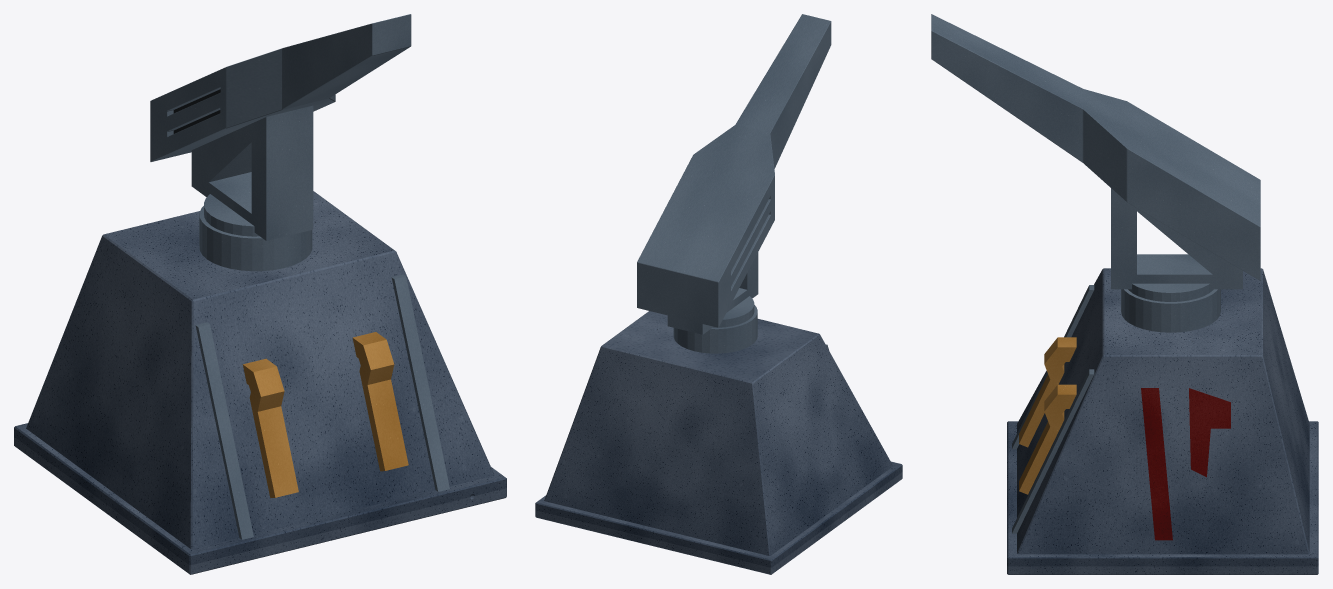
3 renders of one model, left to right at view 1: azimuth 30°, elevation 25°; view 2: azimuth 150°, elevation 25°; view 3: azimuth 270°, elevation 25°, orthographic. The views are drawn at different scales.
Parts seen in each view (by area): view 1: Laser Boost flared fixed cast base, Laser Boost single inclined tapered blade, Laser Boost grounded low foot, Laser Boost pierced rotating cradle, Laser Boost continuous hooked front brass 0, Laser Boost continuous hooked front brass 1, Laser Boost fixed supported bearing, Laser Boost sloping structural front rib 0, Laser Boost sloping structural front rib 1, Laser Boost moving bearing; view 2: Laser Boost flared fixed cast base, Laser Boost single inclined tapered blade, Laser Boost grounded low foot, Laser Boost fixed supported bearing, Laser Boost pierced rotating cradle, Laser Boost moving bearing; view 3: Laser Boost flared fixed cast base, Laser Boost single inclined tapered blade, Laser Boost grounded low foot, Laser Boost pierced rotating cradle, Laser Boost fixed supported bearing, Laser Boost long narrow red side stripe, Laser Boost smaller angular red side flag, Laser Boost continuous hooked front brass 1, Laser Boost continuous hooked front brass 0, Laser Boost sloping structural front rib 1, Laser Boost moving bearing, Laser Boost sloping structural front rib 0.
Part boxes in pixels (left/top/right/bottom): Laser Boost flared fixed cast base: left=26, top=191, right=494, bottom=549; Laser Boost single inclined tapered blade: left=150, top=14, right=411, bottom=161; Laser Boost grounded low foot: left=14, top=423, right=506, bottom=574; Laser Boost pierced rotating cradle: left=191, top=105, right=313, bottom=240; Laser Boost continuous hooked front brass 0: left=242, top=358, right=298, bottom=498; Laser Boost continuous hooked front brass 1: left=352, top=332, right=408, bottom=471; Laser Boost fixed supported bearing: left=199, top=206, right=312, bottom=271; Laser Boost sloping structural front rib 0: left=195, top=322, right=253, bottom=539; Laser Boost sloping structural front rib 1: left=391, top=274, right=449, bottom=491; Laser Boost moving bearing: left=204, top=194, right=259, bottom=236; Laser Boost flared fixed cast base: left=544, top=311, right=892, bottom=555; Laser Boost single inclined tapered blade: left=637, top=14, right=831, bottom=327; Laser Boost grounded low foot: left=535, top=461, right=902, bottom=574; Laser Boost fixed supported bearing: left=673, top=305, right=757, bottom=353; Laser Boost pierced rotating cradle: left=667, top=252, right=758, bottom=334; Laser Boost moving bearing: left=713, top=296, right=754, bottom=327; Laser Boost flared fixed cast base: left=1017, top=268, right=1309, bottom=554; Laser Boost single inclined tapered blade: left=931, top=14, right=1260, bottom=280; Laser Boost grounded low foot: left=1007, top=421, right=1318, bottom=574; Laser Boost pierced rotating cradle: left=1111, top=188, right=1242, bottom=289; Laser Boost fixed supported bearing: left=1121, top=289, right=1220, bottom=332; Laser Boost long narrow red side stripe: left=1141, top=388, right=1172, bottom=540; Laser Boost smaller angular red side flag: left=1189, top=388, right=1230, bottom=477; Laser Boost continuous hooked front brass 1: left=1019, top=384, right=1076, bottom=494; Laser Boost continuous hooked front brass 0: left=1019, top=337, right=1076, bottom=447; Laser Boost sloping structural front rib 1: left=1012, top=369, right=1094, bottom=533; Laser Boost moving bearing: left=1128, top=283, right=1213, bottom=301; Laser Boost sloping structural front rib 0: left=1012, top=285, right=1094, bottom=449.
Bounding box in the file's own units: 1.62 × 2.68 × 1.94.
Materials: 5 (4 with a texture image).
